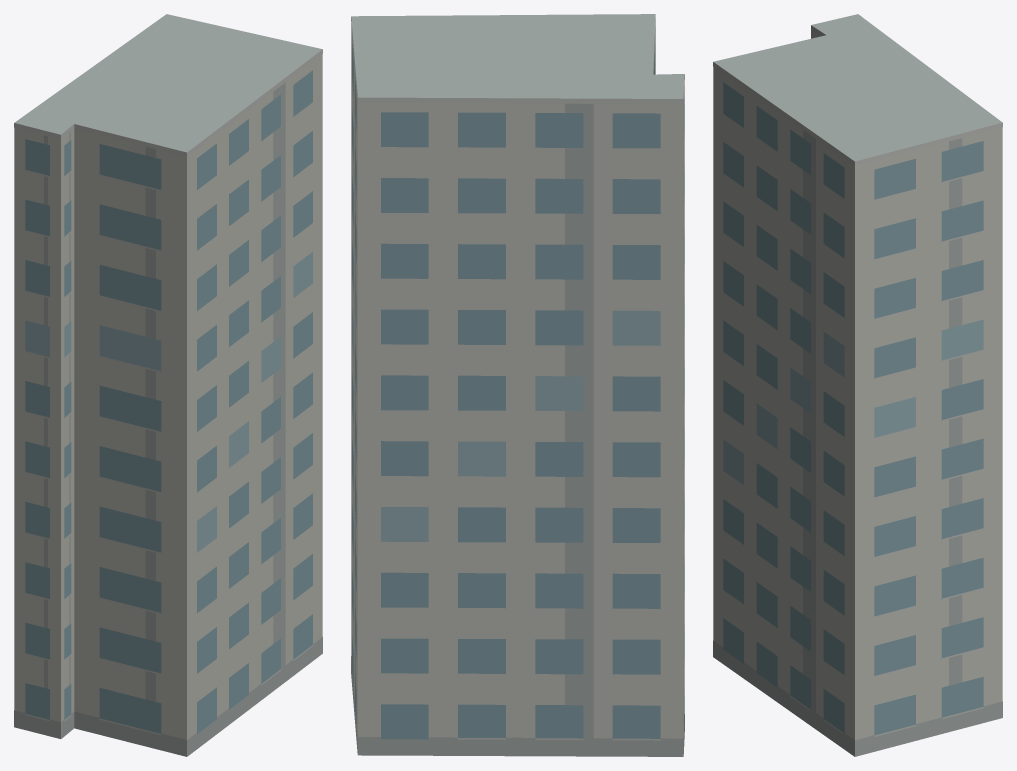
Rendered from survey-upis-32712006.glb.
3 views of the same model, side by side, from view 1: azimuth 30°, elevation 25°; view 2: azimuth 150°, elevation 25°; view 3: azimuth 270°, elevation 25° (orthographic). The views are drawn at different scales.
Visible parts, largest first — view 1: survey-upis-32712006.tmp; view 2: survey-upis-32712006.tmp; view 3: survey-upis-32712006.tmp.
Part boxes in pixels (box(x1,y1,x2,y2)): survey-upis-32712006.tmp: box(14, 14, 322, 756); survey-upis-32712006.tmp: box(351, 14, 684, 756); survey-upis-32712006.tmp: box(713, 14, 1002, 756).
Bounding box in the file's own units: 16.22 × 30.5 × 13.46.
